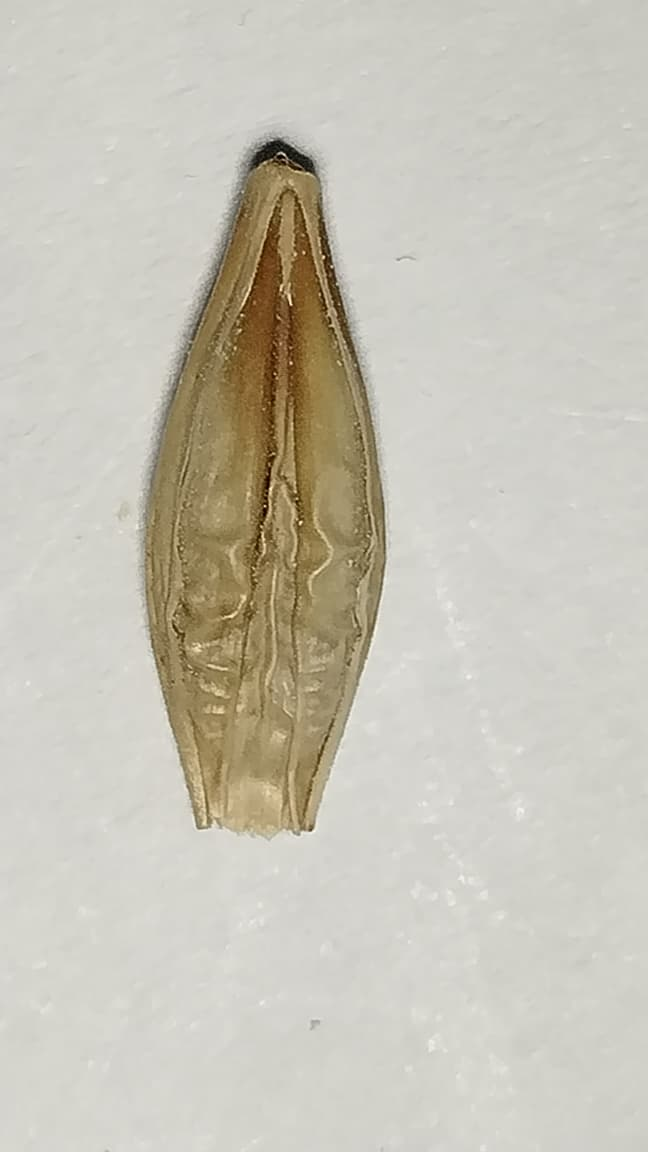healthy-70-60: (156, 159, 381, 831)
